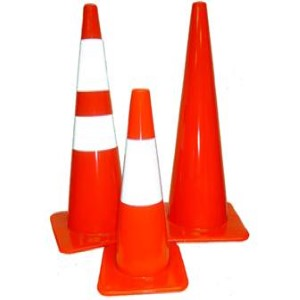traffic cone: (50, 3, 145, 254), (155, 1, 249, 241), (97, 87, 188, 296)
